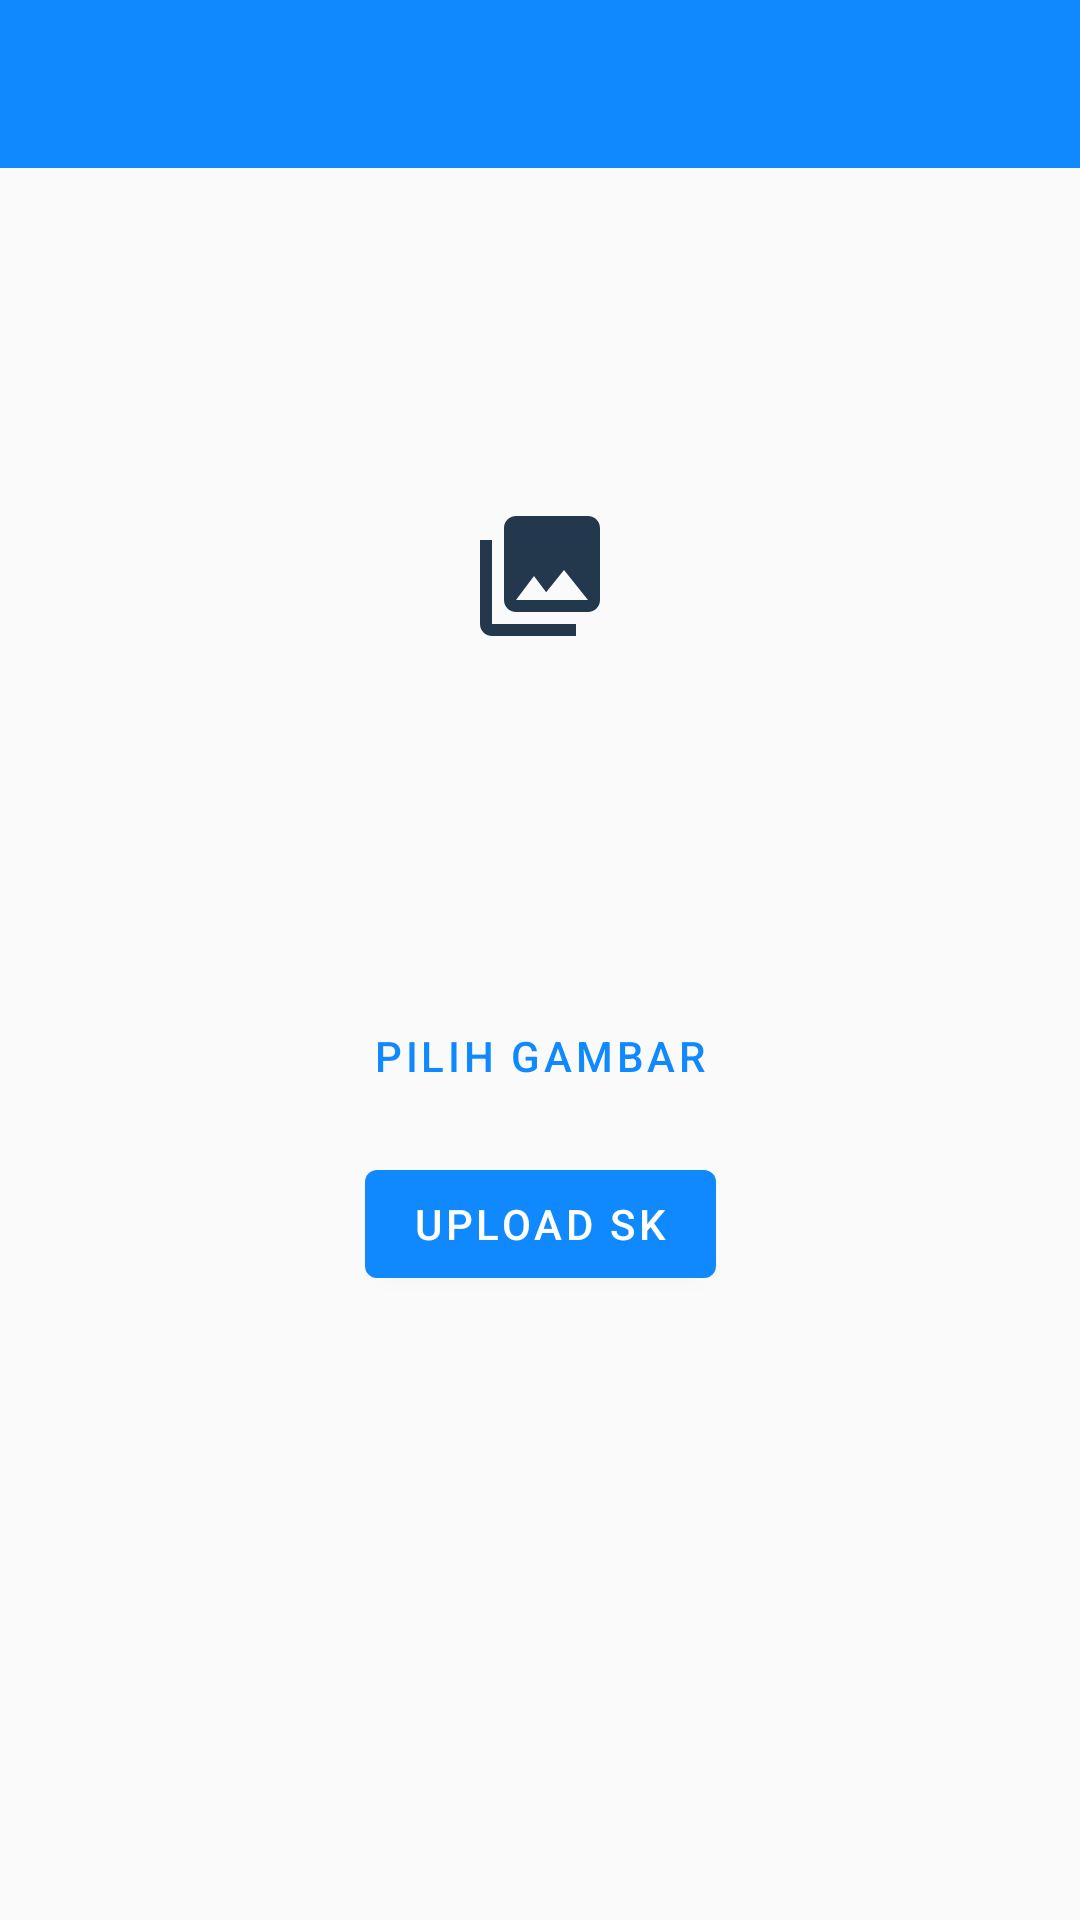

Icons on this 1080 x 1920 Android screen, each with its box as (x1, y1, x2, y2):
collections: (480, 516, 600, 636)
